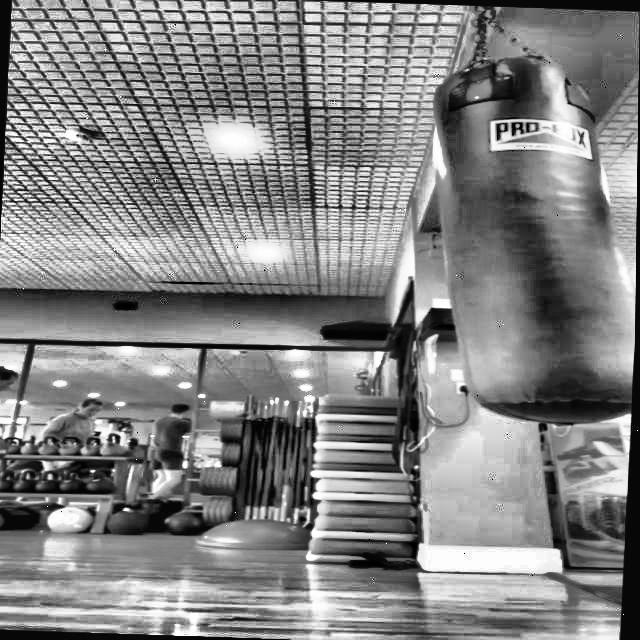boxing-bag: (423, 4, 640, 426)
